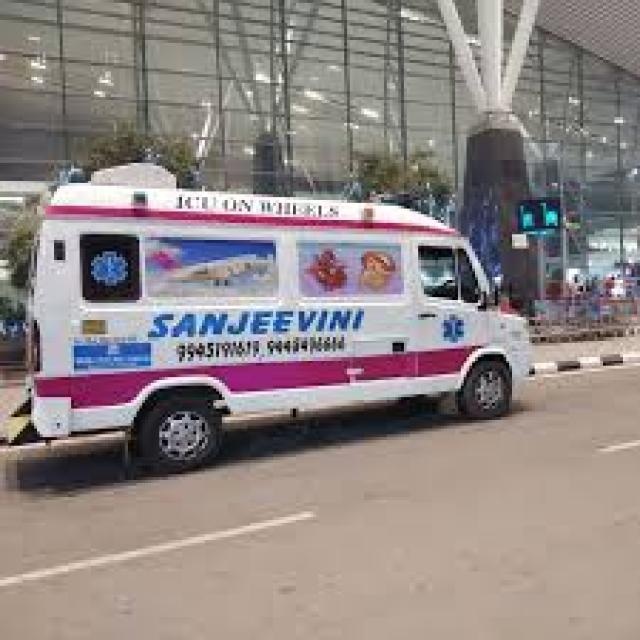ambulance: (31, 166, 529, 437)
